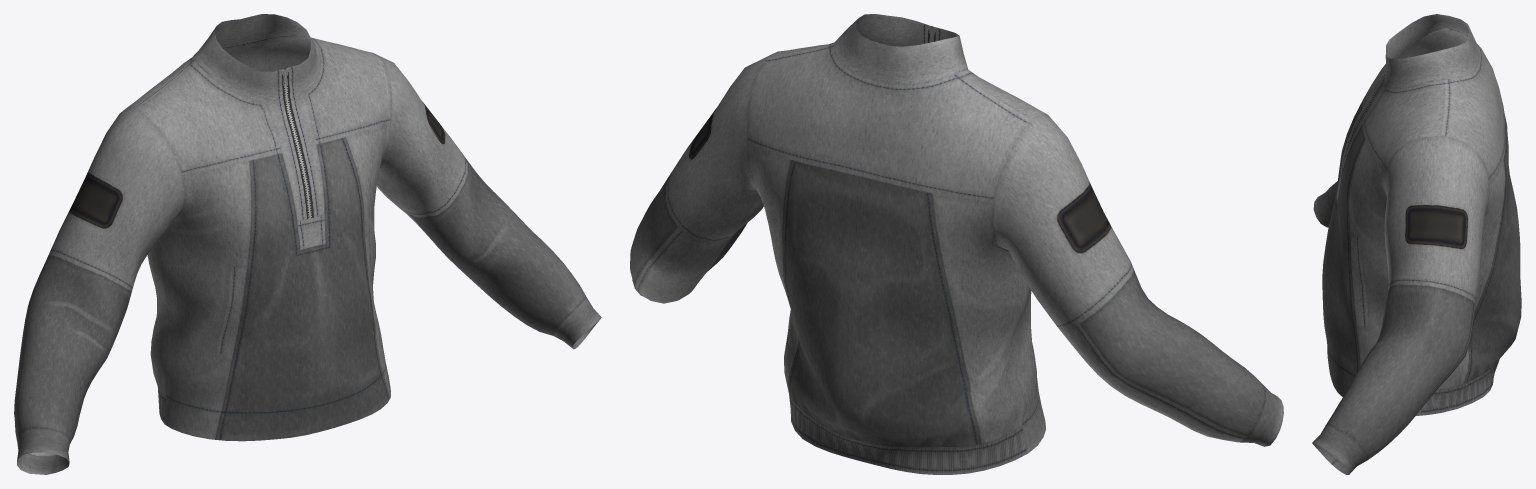
Rendered from anorak-gris.glb.
The picture shows the model from 3 angles, left to right: view 1: azimuth 30°, elevation 25°; view 2: azimuth 150°, elevation 25°; view 3: azimuth 270°, elevation 25°; orthographic projection. The views are drawn at different scales.
Visible parts, largest first — view 1: Object_350; view 2: Object_350; view 3: Object_350.
Part boxes in pixels (x1,y1,x2,y2): Object_350: [14, 14, 601, 474]; Object_350: [630, 14, 1283, 474]; Object_350: [1312, 14, 1521, 474].
Bounding box in the file's own units: 0.9728 × 0.5889 × 0.3299.
Materials: 1 (1 with a texture image).
